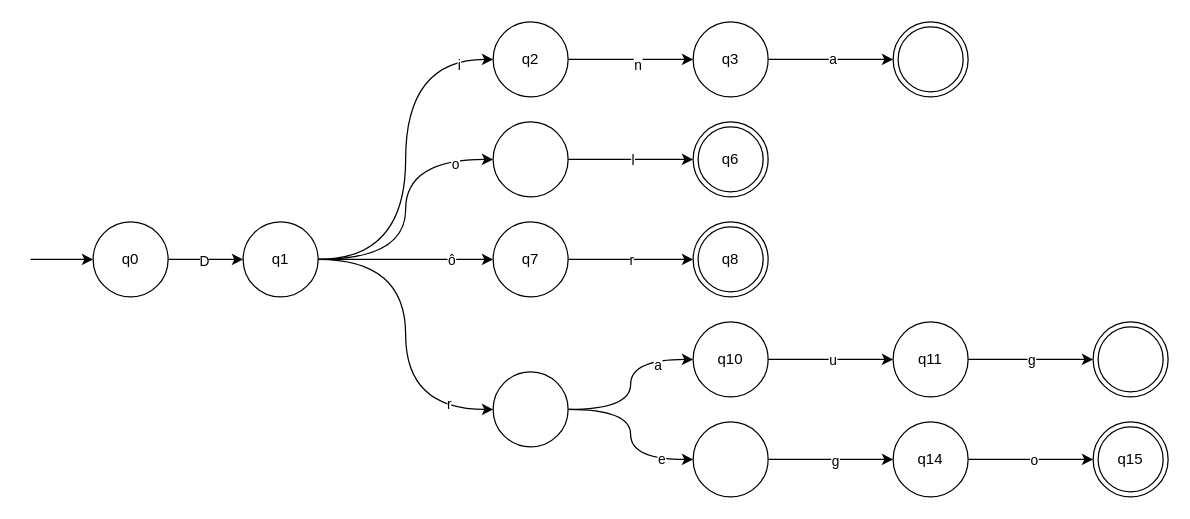
This 1190x519 diagram has some shape labels left out. Here are the shapes that lost their labels. From the top down, the box of each, then its label:
(892, 21, 968, 97): q4
(492, 121, 568, 197): q5
(1092, 321, 1168, 397): q12
(492, 371, 568, 447): q9
(692, 421, 768, 497): q13
